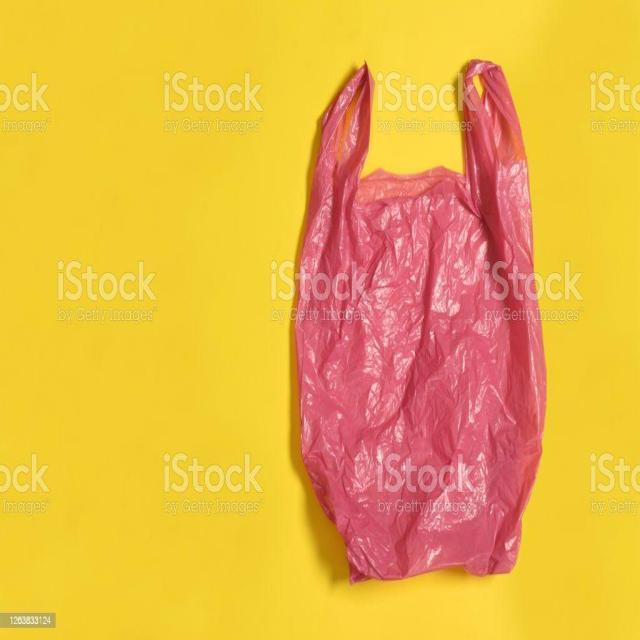Plastic_Bag: (297, 53, 540, 583)
